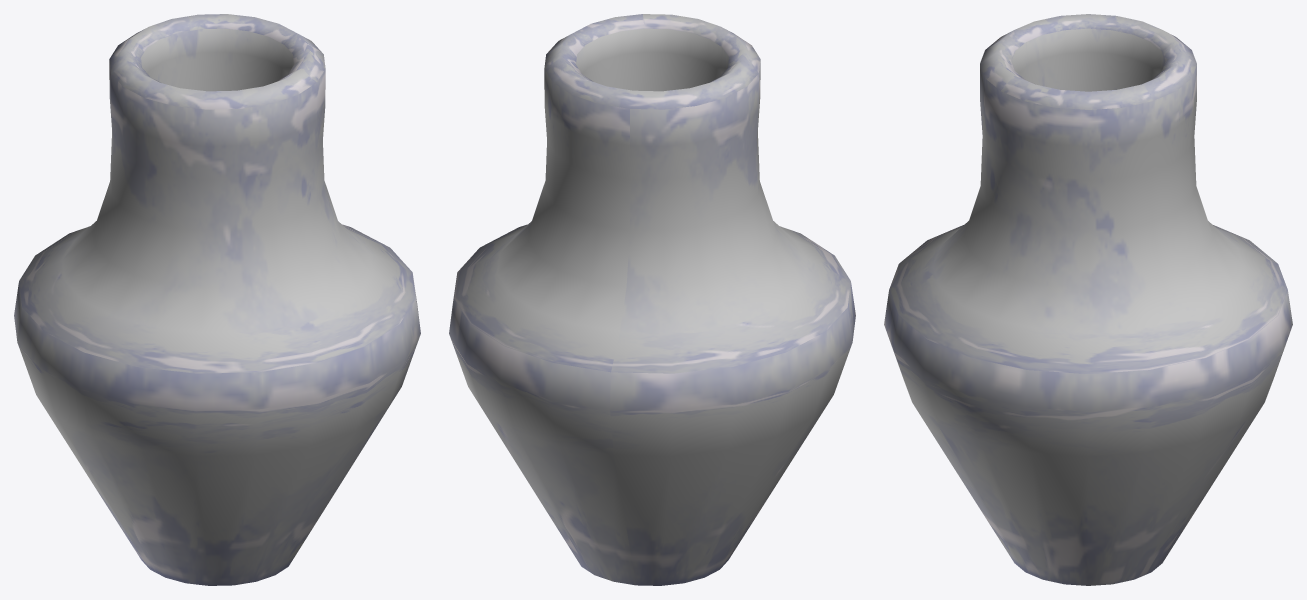
File: Vase_4.fbx
The picture shows the model from 3 angles, left to right: view 1: azimuth 30°, elevation 25°; view 2: azimuth 150°, elevation 25°; view 3: azimuth 270°, elevation 25°; orthographic projection.
Visible parts, largest first — view 1: Vase_4; view 2: Vase_4; view 3: Vase_4.
Boxes of the visible parts, x1=… form: Vase_4: x1=14, y1=14, x2=420, y2=585; Vase_4: x1=449, y1=14, x2=855, y2=585; Vase_4: x1=884, y1=14, x2=1292, y2=585.
Bounding box in the file's own units: 35.96 × 48.55 × 35.96.
